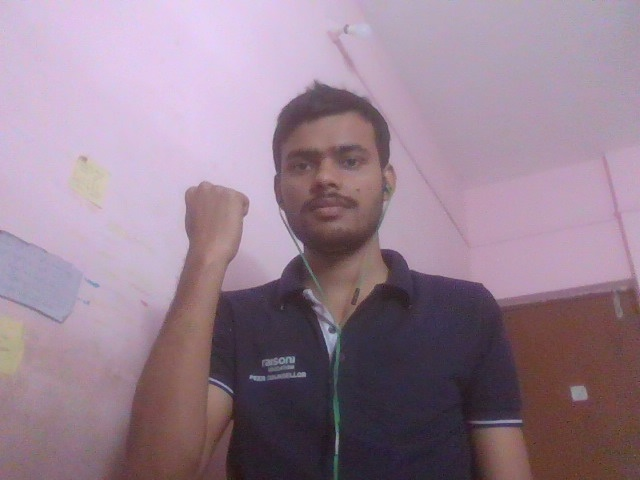Yes: (133, 123, 292, 447)
